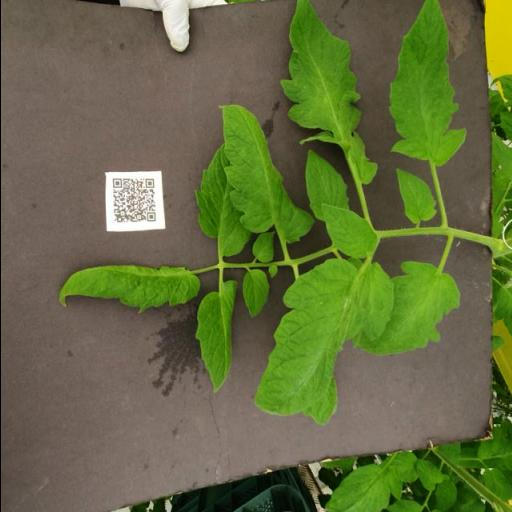Healthy: (252, 257, 394, 429), (280, 0, 378, 186), (220, 100, 314, 244), (387, 0, 468, 166), (356, 259, 459, 357), (52, 259, 198, 312), (193, 278, 241, 396), (301, 147, 348, 222), (318, 204, 378, 258), (394, 169, 436, 227), (239, 270, 269, 318)
